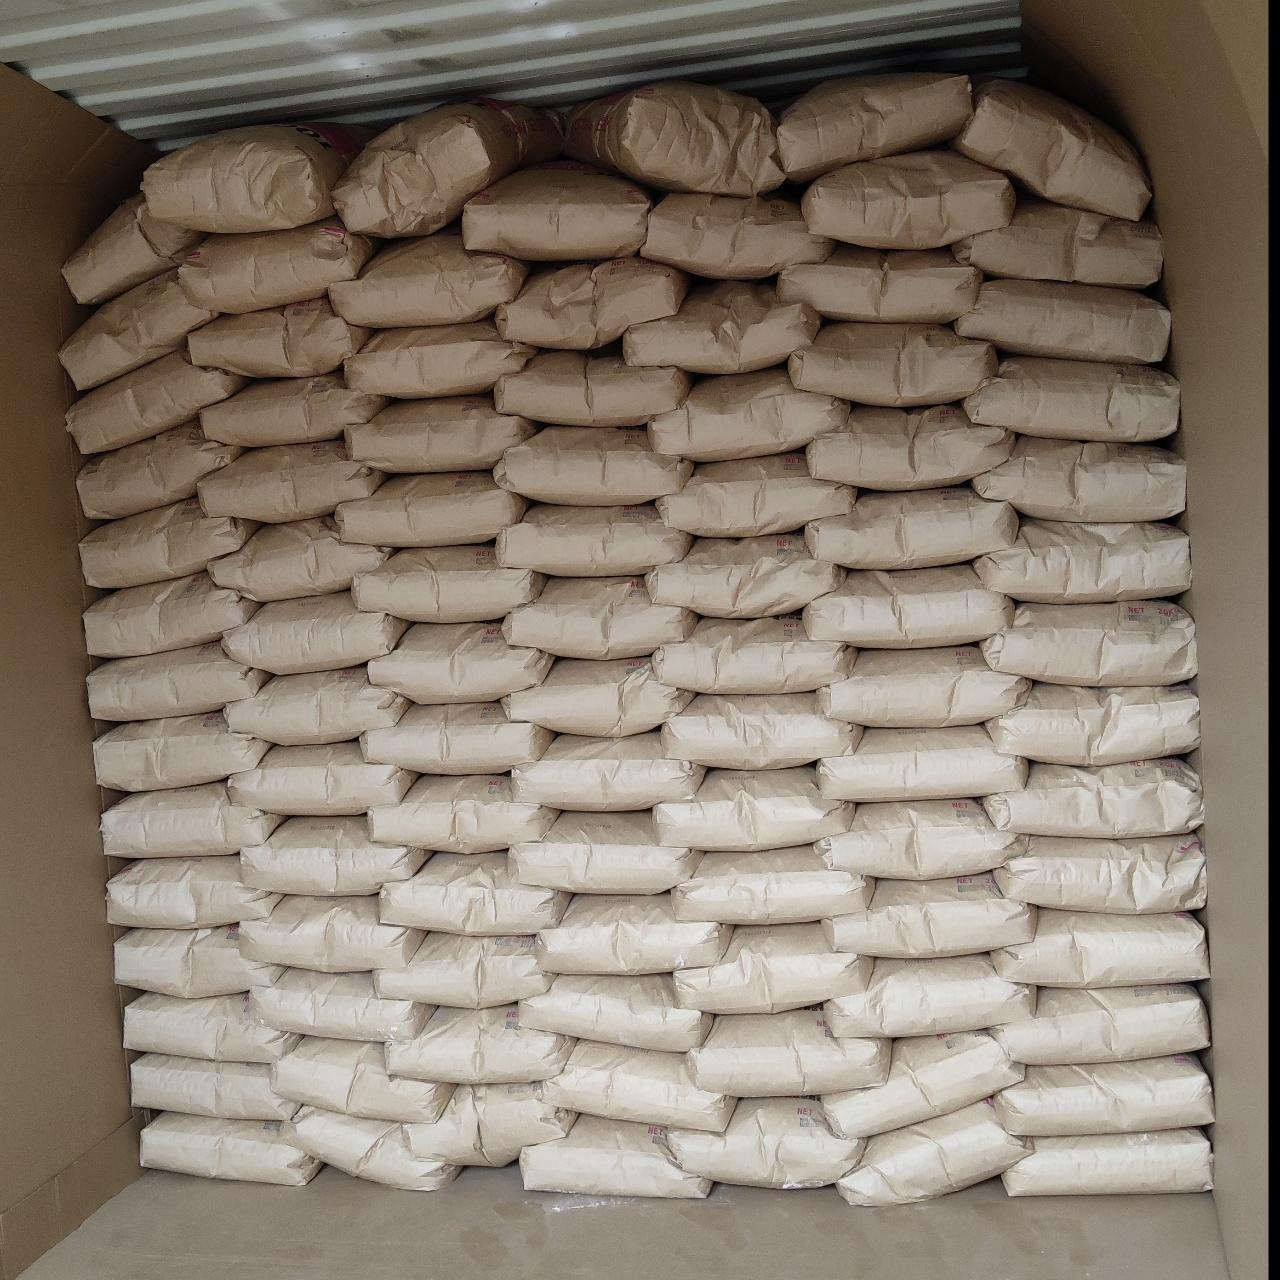sack: (336, 102, 558, 236), (952, 80, 1150, 215), (560, 82, 782, 190), (144, 124, 368, 230), (776, 74, 971, 182), (822, 1032, 1022, 1133), (802, 150, 1014, 246), (838, 1099, 1026, 1206), (331, 229, 527, 326), (66, 348, 248, 452), (464, 159, 648, 260), (952, 198, 1162, 286), (60, 270, 215, 388), (648, 368, 846, 459), (178, 218, 376, 309), (976, 518, 1190, 602), (964, 356, 1178, 438), (624, 282, 821, 372), (956, 280, 1170, 362), (982, 602, 1196, 685), (498, 258, 690, 348), (824, 874, 1034, 956), (974, 436, 1184, 518), (666, 1098, 862, 1186), (790, 322, 996, 406), (676, 924, 870, 1012), (688, 1008, 886, 1094), (986, 685, 1198, 764), (542, 1042, 734, 1130), (818, 646, 1028, 726), (824, 956, 1034, 1036), (994, 1056, 1210, 1133), (77, 418, 243, 519), (983, 760, 1201, 836), (804, 566, 1012, 646), (808, 406, 1012, 486), (994, 908, 1206, 986), (992, 986, 1206, 1062), (806, 488, 1014, 566), (816, 799, 1022, 878), (658, 452, 855, 535), (640, 195, 830, 278), (646, 535, 842, 614), (654, 768, 852, 846), (778, 246, 982, 322), (994, 836, 1204, 910), (64, 190, 202, 302), (510, 812, 700, 892), (672, 846, 870, 922), (818, 726, 1026, 798), (82, 501, 258, 586), (522, 1116, 710, 1196), (538, 894, 730, 972), (656, 617, 855, 692), (380, 855, 566, 934), (272, 1039, 452, 1121), (241, 816, 428, 894), (493, 428, 692, 502), (368, 776, 558, 852), (512, 731, 702, 808), (504, 578, 694, 654), (352, 544, 542, 620), (200, 440, 384, 518), (210, 518, 390, 598), (346, 320, 535, 396), (504, 658, 692, 734), (224, 592, 406, 670), (188, 297, 372, 374), (280, 1108, 456, 1189), (518, 976, 710, 1050), (663, 694, 862, 765), (86, 572, 258, 654), (370, 624, 550, 702), (346, 396, 536, 470), (386, 1006, 574, 1080), (496, 350, 690, 422), (496, 504, 692, 574), (226, 666, 406, 742), (88, 644, 270, 719), (202, 372, 386, 445), (336, 472, 526, 544), (96, 712, 268, 790), (406, 1084, 574, 1164), (1005, 1130, 1212, 1194), (230, 742, 414, 813), (102, 782, 282, 855), (240, 896, 422, 966), (362, 704, 550, 772), (376, 934, 550, 1006), (250, 971, 430, 1039), (142, 1112, 318, 1182), (108, 856, 278, 926), (124, 992, 300, 1060), (116, 926, 282, 996), (132, 1054, 300, 1118)
